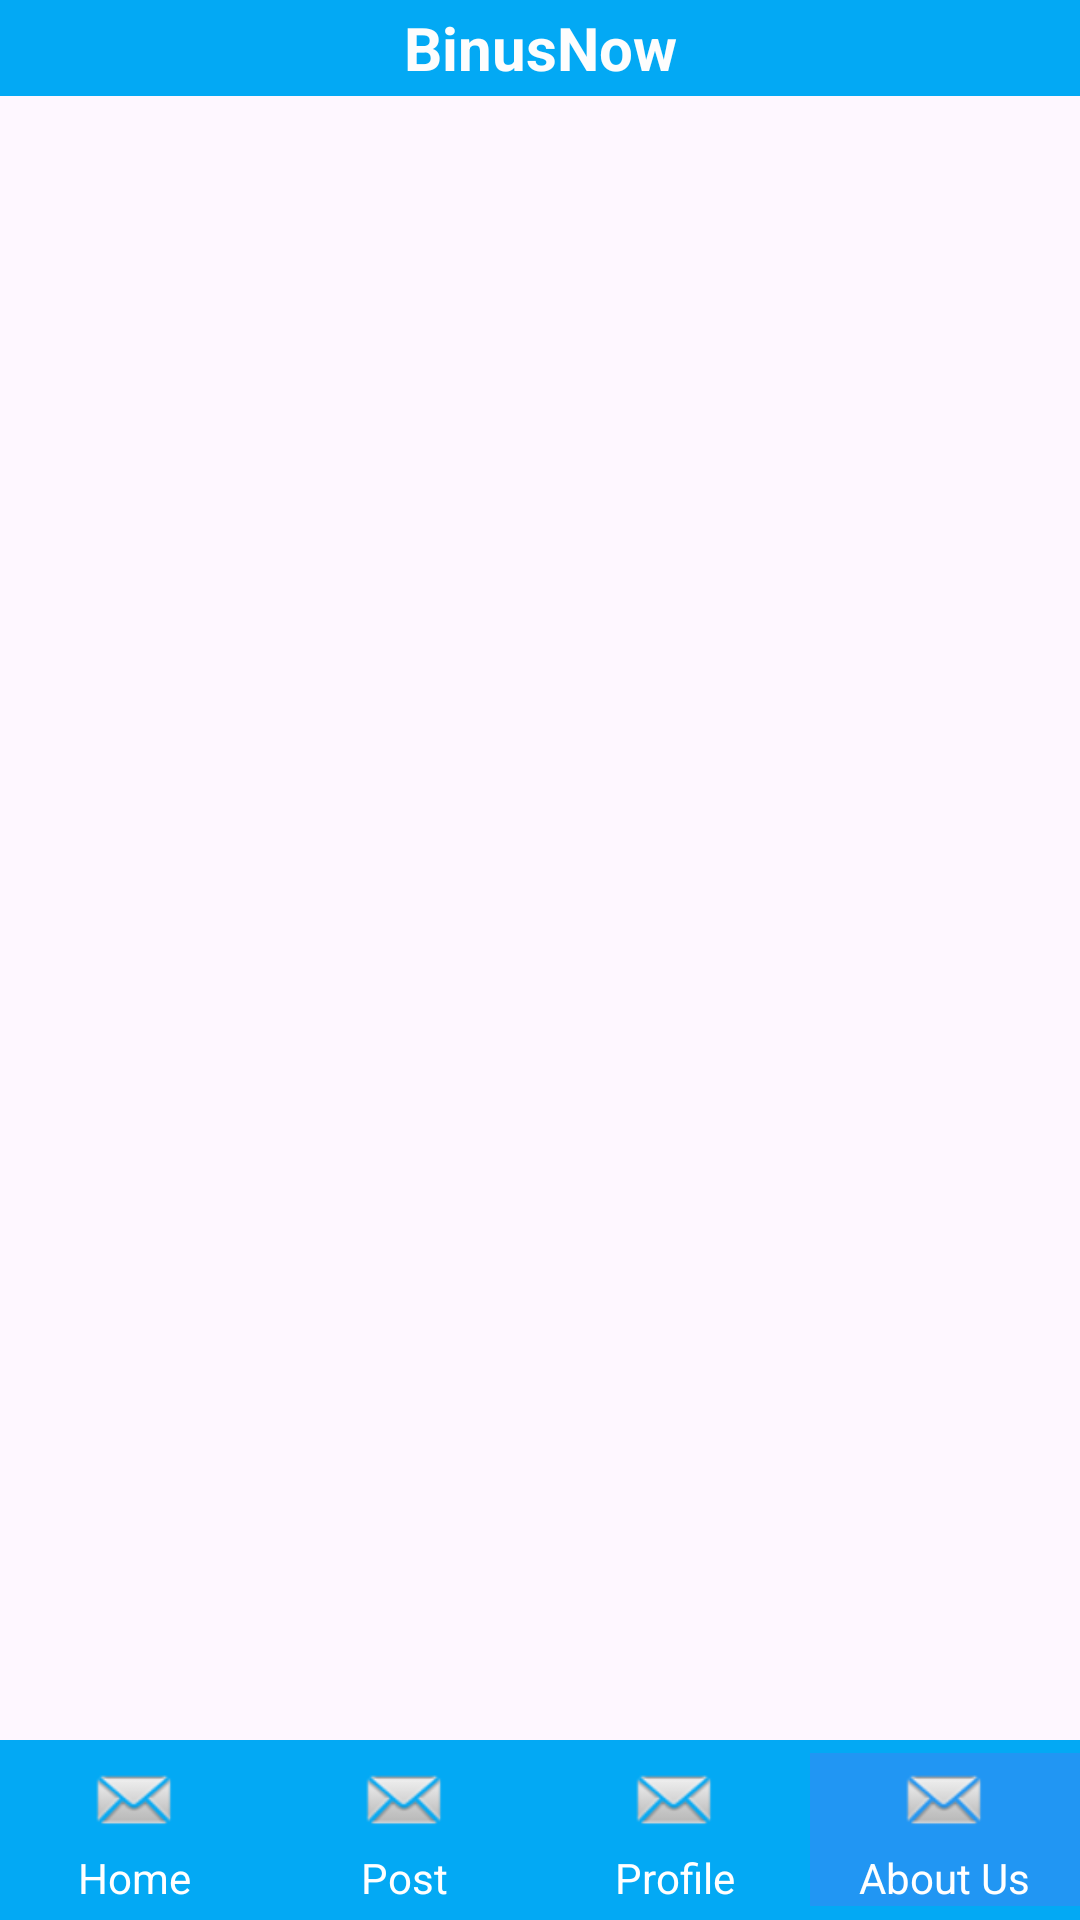

Icon bounding boxes for this 1080px×1920px phone screenshot, format (x1, y1, x2, y2):
sym action email: (96, 1775, 171, 1824), (366, 1775, 441, 1824), (636, 1775, 711, 1824), (906, 1775, 981, 1824)
